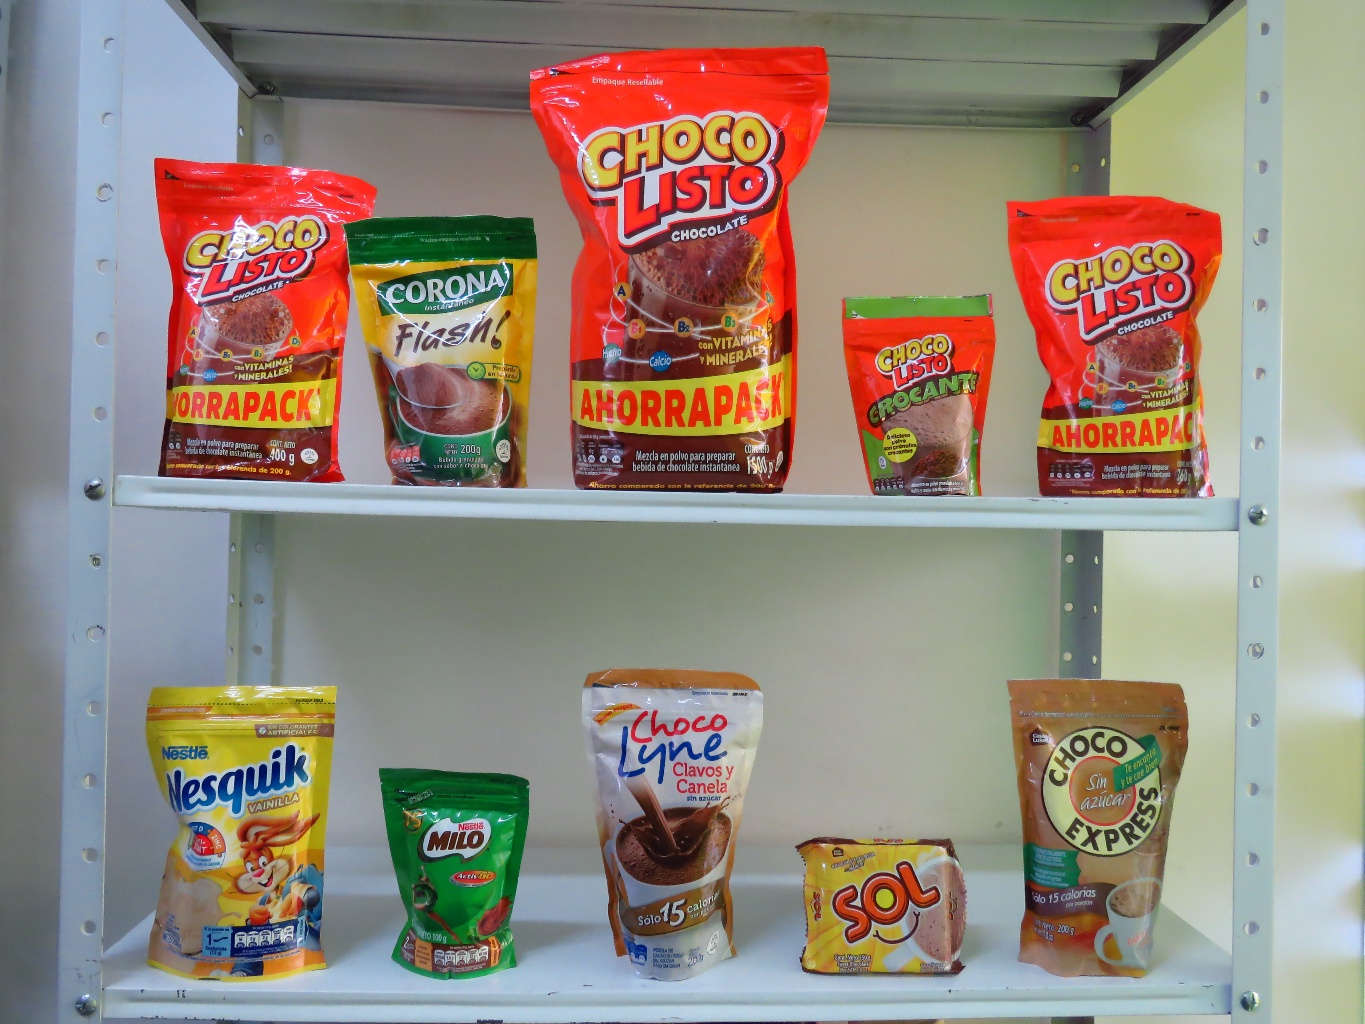COL0170102DYP10000: (842, 293, 996, 497)
COL0170103DYP1,500: (524, 43, 820, 495)
COL0170103DYP36000: (1005, 196, 1223, 503)
COL0170103DYP40000: (157, 154, 375, 481)
COL0170203DYP10000: (376, 765, 532, 983)
COL0170306DYP20000: (144, 683, 335, 985)
